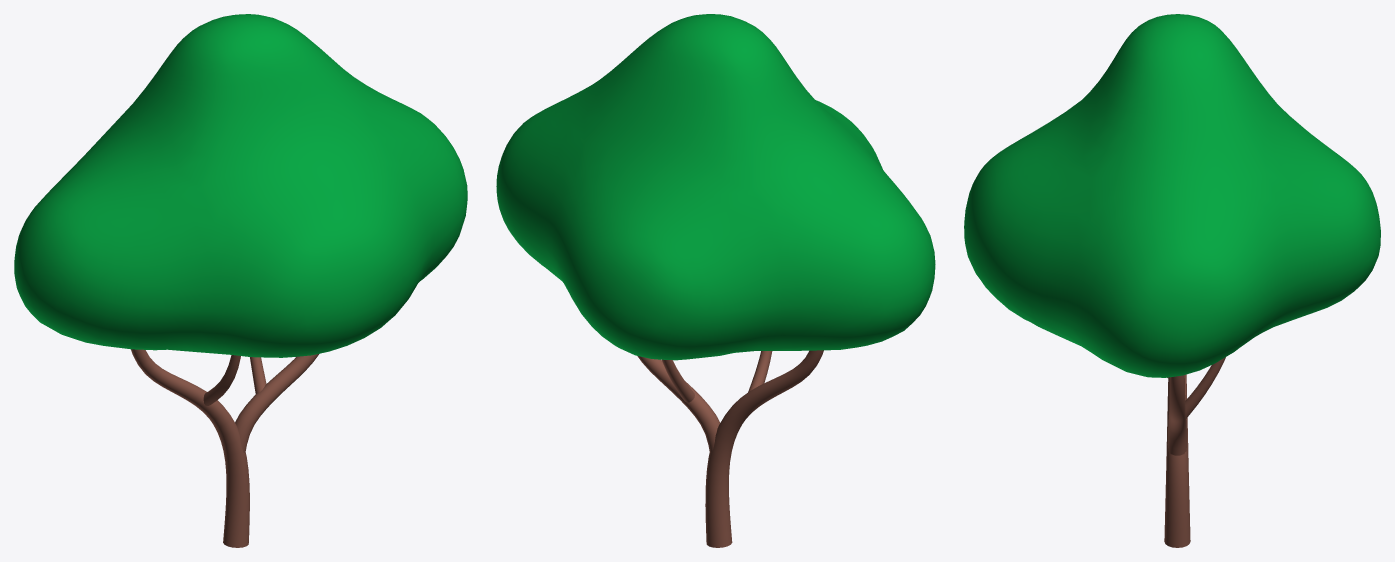
File: Farm_13_Tree_1.glb
The picture shows the model from 3 angles, left to right: view 1: azimuth 30°, elevation 25°; view 2: azimuth 150°, elevation 25°; view 3: azimuth 270°, elevation 25°; orthographic projection.
Parts seen in each view (by area): view 1: Farm_13_Tree_1; view 2: Farm_13_Tree_1; view 3: Farm_13_Tree_1.
Boxes of the visible parts, x1,y1,x2,y2 form: Farm_13_Tree_1: (14, 14, 467, 547); Farm_13_Tree_1: (496, 14, 935, 547); Farm_13_Tree_1: (964, 14, 1380, 547).
Size of the model in its own units: 4.73 by 5.59 by 4.05.
1 material, 1 textured.
